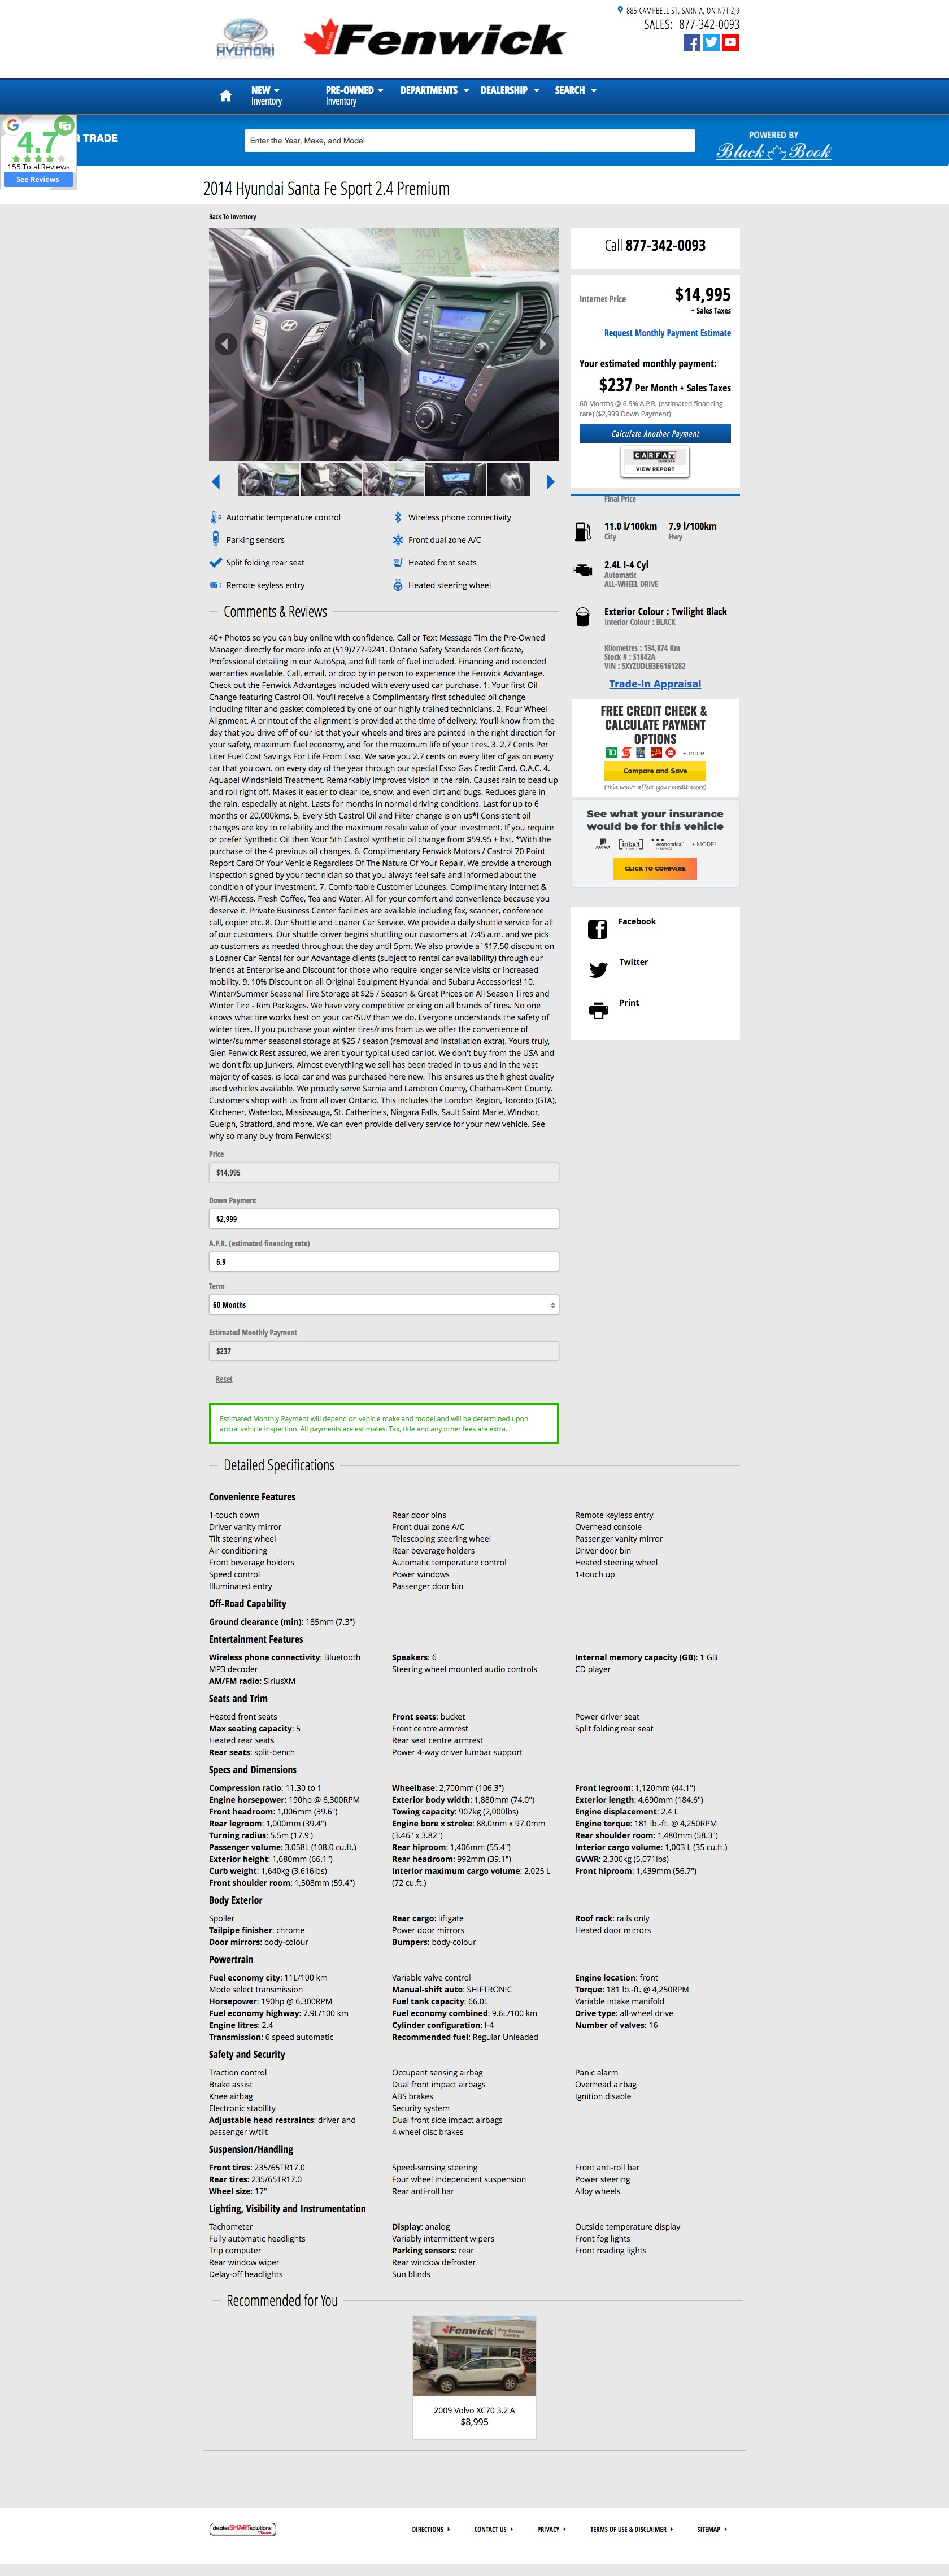car: (547, 473, 555, 491)
